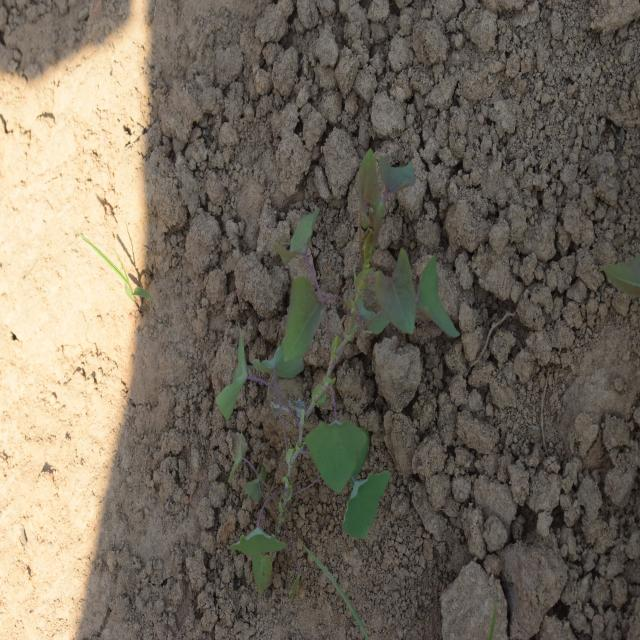Asiatic_Smartweed: (255, 142, 456, 364), (303, 381, 392, 547)
